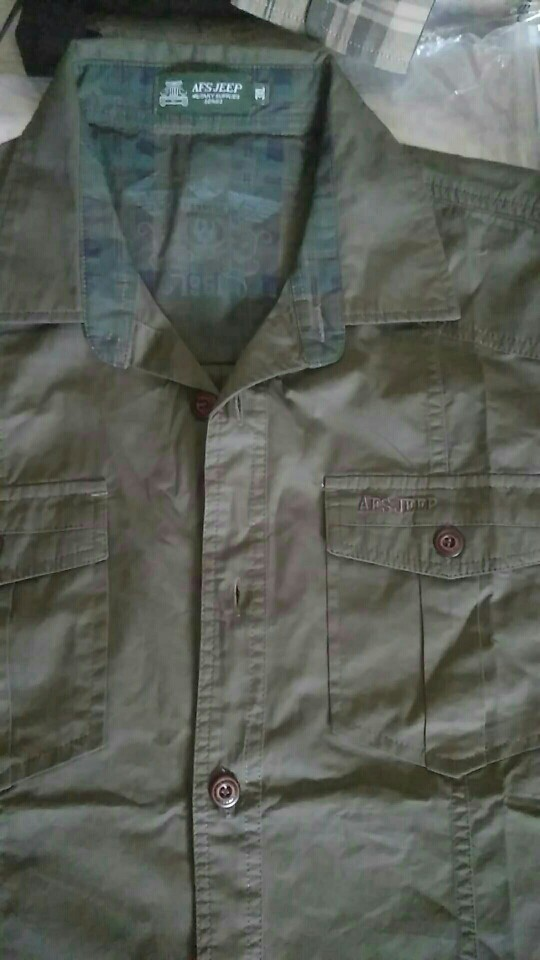shirts: (4, 35, 540, 914)
